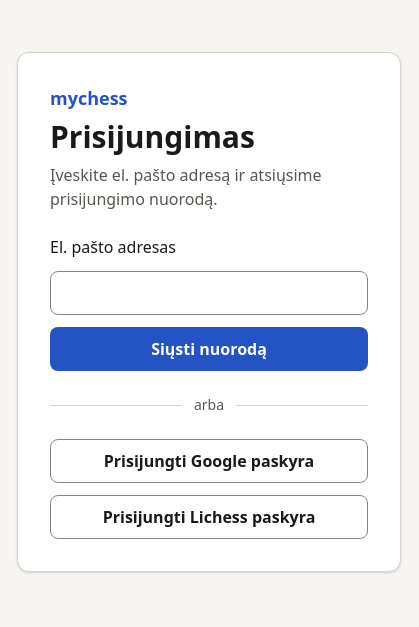
Scenario: SignInForm › says the email is not valid when the server refuses it
Type "ruta@" into the field labelled "El. pašto adresas" at (209, 293), box x1=50 y1=271 x2=368 y2=315
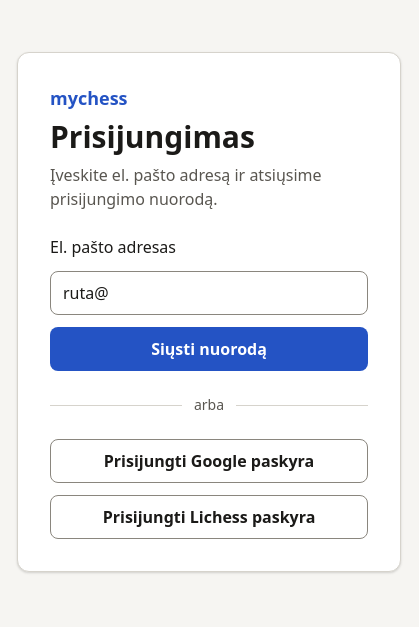
Click the button "Siųsti nuorodą" at (209, 349), box x1=50 y1=327 x2=368 y2=371
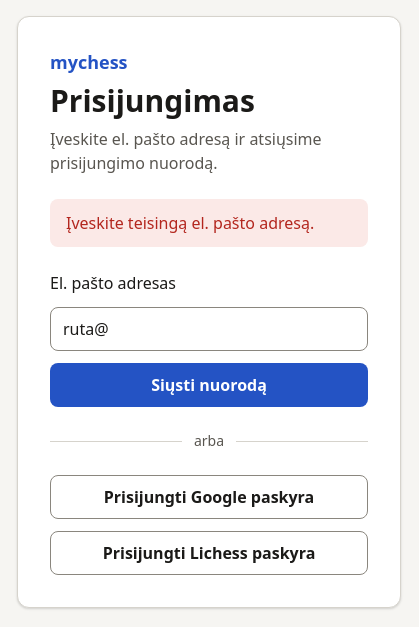
expect the message reads "Įveskite teisingą el. pašto adresą.": met, box x1=66 y1=212 x2=314 y2=234
